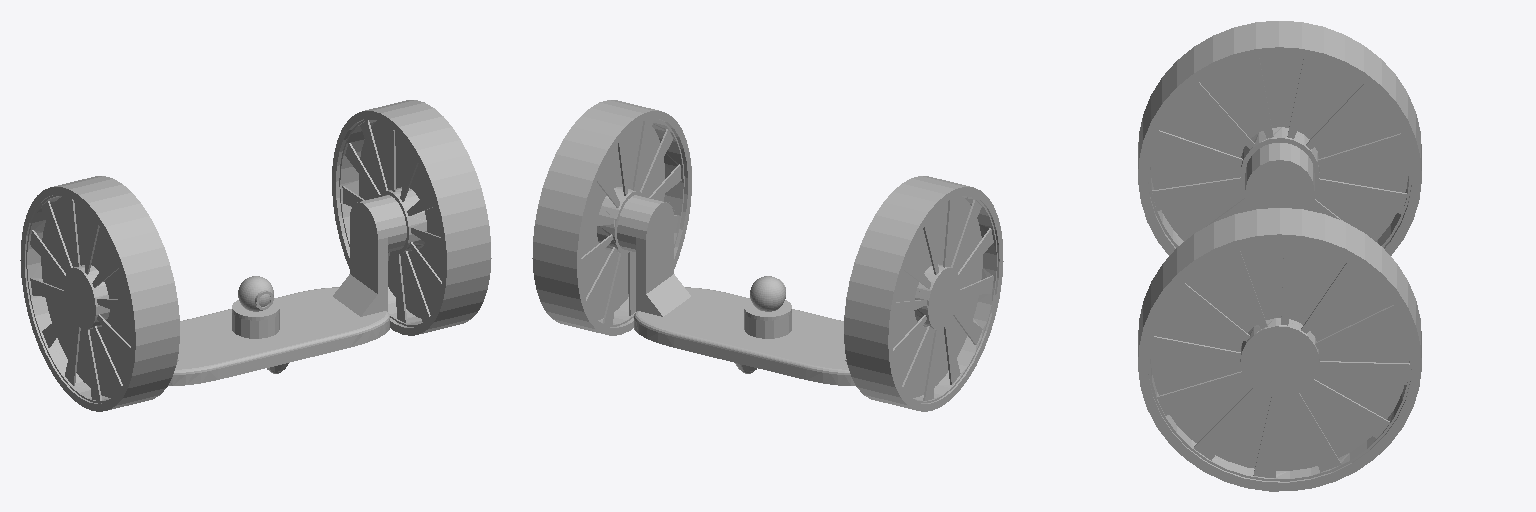
URDF robot description (rover_description):
<?xml version="1.0" encoding="utf-8"?>
<!-- This URDF was automatically created by SolidWorks to URDF Exporter! Originally created by [author] ([email redacted]) 
     Commit Version: 1.6.0-4-g7f85cfe  Build Version: 1.6.7995.38578
     For more information, please see http://wiki.ros.org/sw_urdf_exporter -->
<robot
  name="rover_description">
  <link
    name="base_link">
    <inertial>
      <origin
        xyz="3.21E-06 6.9337E-07 0.03604"
        rpy="0 0 0" />
      <mass
        value="1.5248" />
      <inertia
        ixx="0.0052172"
        ixy="-2.3731E-07"
        ixz="1.5083E-07"
        iyy="0.031715"
        iyz="3.2579E-08"
        izz="0.029684" />
    </inertial>
    <visual>
      <origin
        xyz="0 0 0"
        rpy="0 0 0" />
      <geometry>
        <mesh
          filename="package://rover_gz_description/meshes/base_link.STL" />
      </geometry>
      <material
        name="">
        <color
          rgba="0.75294 0.75294 0.75294 1" />
      </material>
    </visual>
    <collision>
      <origin
        xyz="0 0 0"
        rpy="0 0 0" />
      <geometry>
        <mesh
          filename="package://rover_gz_description/meshes/base_link.STL" />
      </geometry>
    </collision>
  </link>
  <link
    name="Wheel1_Link">
    <inertial>
      <origin
        xyz="-2.7756E-17 6.9389E-18 0.052583"
        rpy="0 0 0" />
      <mass
        value="1.8933" />
      <inertia
        ixx="0.011647"
        ixy="4.4141E-19"
        ixz="-3.5048E-19"
        iyy="0.011647"
        iyz="-1.1485E-18"
        izz="0.022319" />
    </inertial>
    <visual>
      <origin
        xyz="0 0 0"
        rpy="0 0 0" />
      <geometry>
        <mesh
          filename="package://rover_gz_description/meshes/Wheel1_Link.STL" />
      </geometry>
      <material
        name="">
        <color
          rgba="0.75294 0.75294 0.75294 1" />
      </material>
    </visual>
    <collision>
      <origin
        xyz="0 0 0"
        rpy="0 0 0" />
      <geometry>
        <mesh
          filename="package://rover_gz_description/meshes/Wheel1_Link.STL" />
      </geometry>
    </collision>
  </link>
  <joint
    name="Joint1"
    type="continuous">
    <origin
      xyz="-0.17 0 0.11186"
      rpy="1.5708 0 -1.5708" />
    <parent
      link="base_link" />
    <child
      link="Wheel1_Link" />
    <axis
      xyz="0 0 1" />
  </joint>
  <link
    name="Wheel2_Link">
    <inertial>
      <origin
        xyz="-6.9389E-18 0 -0.032896"
        rpy="0 0 0" />
      <mass
        value="1.8933" />
      <inertia
        ixx="0.011647"
        ixy="8.6736E-19"
        ixz="2.1965E-19"
        iyy="0.011647"
        iyz="-1.2042E-18"
        izz="0.022319" />
    </inertial>
    <visual>
      <origin
        xyz="0 0 0"
        rpy="0 0 0" />
      <geometry>
        <mesh
          filename="package://rover_gz_description/meshes/Wheel2_Link.STL" />
      </geometry>
      <material
        name="">
        <color
          rgba="0.75294 0.75294 0.75294 1" />
      </material>
    </visual>
    <collision>
      <origin
        xyz="0 0 0"
        rpy="0 0 0" />
      <geometry>
        <mesh
          filename="package://rover_gz_description/meshes/Wheel2_Link.STL" />
      </geometry>
    </collision>
  </link>
  <joint
    name="Joint2"
    type="continuous">
    <origin
      xyz="0.25548 0 0.11186"
      rpy="-1.5708 -0.39309 -1.5708" />
    <parent
      link="base_link" />
    <child
      link="Wheel2_Link" />
    <axis
      xyz="0 0 -1" />
  </joint>
  <link
    name="Camara_Link">
    <inertial>
      <origin
        xyz="-1.3986E-09 -0.00025169 0.0073239"
        rpy="0 0 0" />
      <mass
        value="0.21094" />
      <inertia
        ixx="4.3606E-05"
        ixy="-4.2289E-12"
        ixz="2.1372E-14"
        iyy="4.2661E-05"
        iyz="-6.5426E-15"
        izz="4.7389E-05" />
    </inertial>
    <visual>
      <origin
        xyz="0 0 0"
        rpy="0 0 0" />
      <geometry>
        <mesh
          filename="package://rover_gz_description/meshes/Camara_Link.STL" />
      </geometry>
      <material
        name="">
        <color
          rgba="0.75294 0.75294 0.75294 1" />
      </material>
    </visual>
    <collision>
      <origin
        xyz="0 0 0"
        rpy="0 0 0" />
      <geometry>
        <mesh
          filename="package://rover_gz_description/meshes/Camara_Link.STL" />
      </geometry>
    </collision>
  </link>
  <joint
    name="Joint3"
    type="continuous">
    <origin
      xyz="0 0 0.05"
      rpy="0 0 0" />
    <parent
      link="base_link" />
    <child
      link="Camara_Link" />
    <axis
      xyz="0 0 1" />
  </joint>

  <gazebo>
    <plugin name="two_wheeled_robot_diff_drive" filename="libgazebo_ros_diff_drive.so">
      <update_rate>100</update_rate>

      <left_joint>Joint1</left_joint>
      <right_joint>Joint2</right_joint>

      <wheel_separation>0.14022037</wheel_separation>
      <wheel_diameter>0.033</wheel_diameter>

      <max_wheel_torque>20.0</max_wheel_torque>
      <max_wheel_acceleration>20.0</max_wheel_acceleration>

      <command_topic>cmd_vel</command_topic>

      <publish_odom>true</publish_odom>
      <publish_odom_tf>true</publish_odom_tf>
      <publish_wheel_tf>true</publish_wheel_tf>
      
      <odometry_topic>odom</odometry_topic>
      <odometry_frame>odom_link</odometry_frame>
      <robot_base_frame>base_link</robot_base_frame>

      <odometry_source>1</odometry_source>
      <ros>
        <remapping>odom:=wheel/odometry</remapping>
      </ros>
    </plugin>
  </gazebo>

</robot>

--- Facts derived from the render (not from the file) ---
3 views of the same robot in one strip: view 1: azimuth 30°, elevation 25°; view 2: azimuth 150°, elevation 25°; view 3: azimuth 270°, elevation 25° (orthographic).
Robot: rover_description — 4 links, 3 joints (3 continuous); root link base_link; default pose: all joints at 0.
Visible links, largest first — view 1: Wheel1_Link, Wheel2_Link, base_link, Camara_Link; view 2: Wheel1_Link, Wheel2_Link, base_link, Camara_Link; view 3: Wheel2_Link, Wheel1_Link, base_link.
Link boxes in pixels (x1,y1,x2,y2): Wheel1_Link: (20,176,179,411); Wheel2_Link: (332,100,491,335); base_link: (168,195,406,385); Camara_Link: (232,276,279,320); Wheel1_Link: (844,176,1003,411); Wheel2_Link: (532,100,691,335); base_link: (617,195,855,385); Camara_Link: (744,276,791,320); Wheel2_Link: (1138,208,1421,491); Wheel1_Link: (1138,21,1421,255); base_link: (1245,143,1314,211).
Size in the robot's own frame: 0.511 by 0.2868 by 0.2866 metres.
Meshes: 4 distinct files referenced, 4 mesh visuals loaded (4 binary STL).